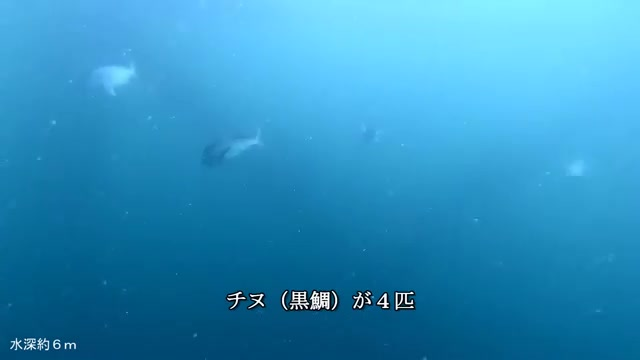smallfish: (196, 125, 274, 173), (73, 54, 144, 104)
